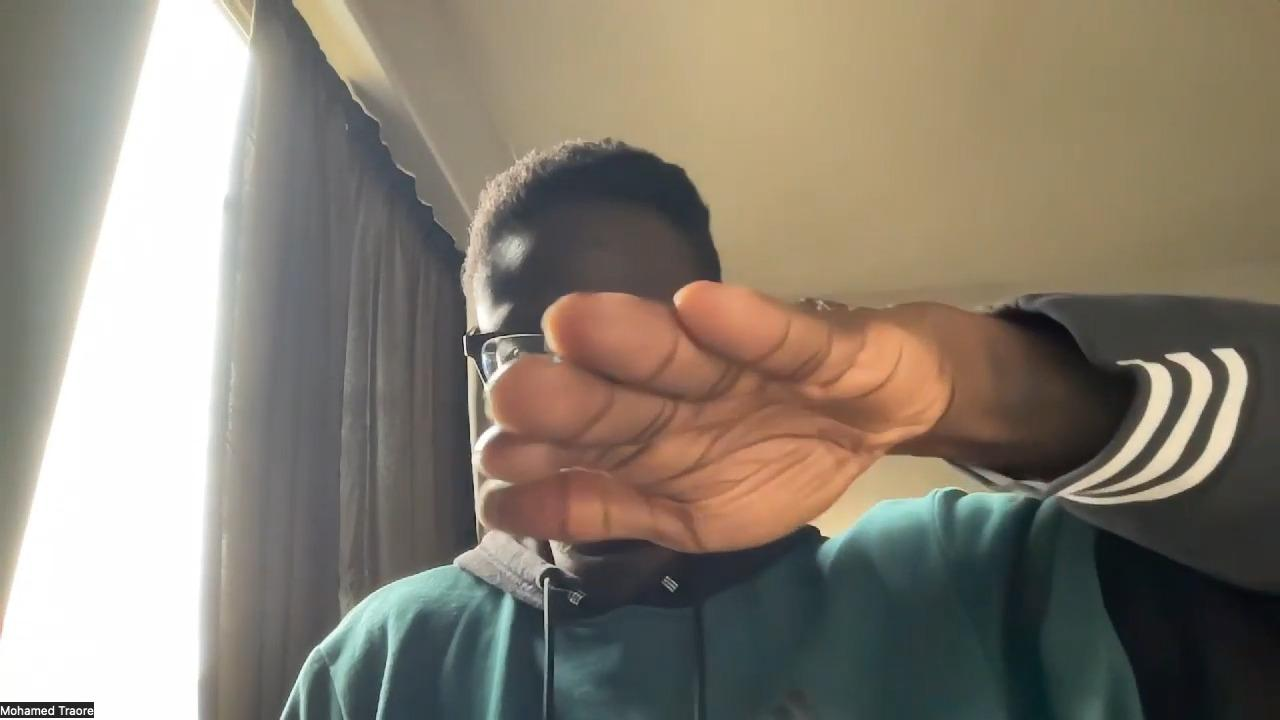Paper: (475, 277, 955, 554)
